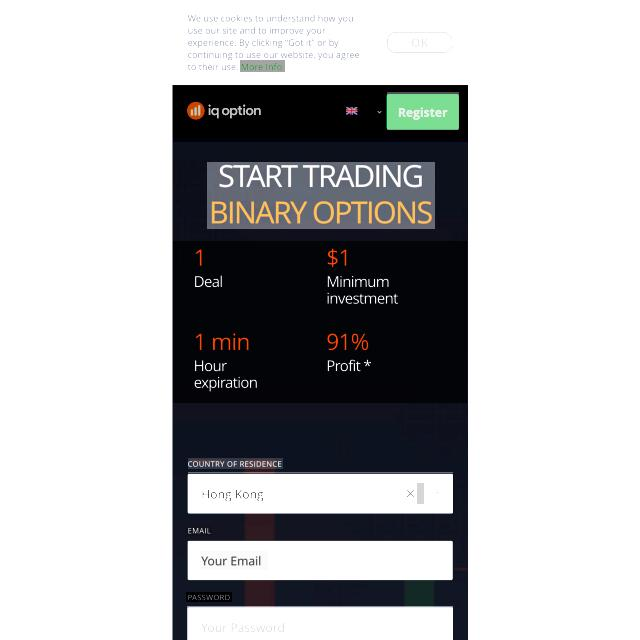CheckBox: (387, 92, 459, 130), (386, 30, 453, 54), (240, 61, 285, 72)
CheckedTextView: (188, 472, 453, 514), (188, 540, 453, 580), (187, 606, 453, 640)
ProgressBar: (171, 0, 469, 85)
QR code: (173, 241, 468, 403)
accordion: (417, 483, 424, 504)
alert: (188, 473, 454, 514), (341, 104, 385, 120)
bag: (173, 86, 468, 142)
carousel: (406, 487, 416, 498), (433, 488, 442, 499)
data feed: (188, 458, 283, 469), (201, 487, 266, 503), (186, 592, 232, 602), (186, 526, 212, 536)
date picker: (185, 100, 264, 122)
footer: (200, 551, 268, 570)
image: (207, 162, 435, 229)
